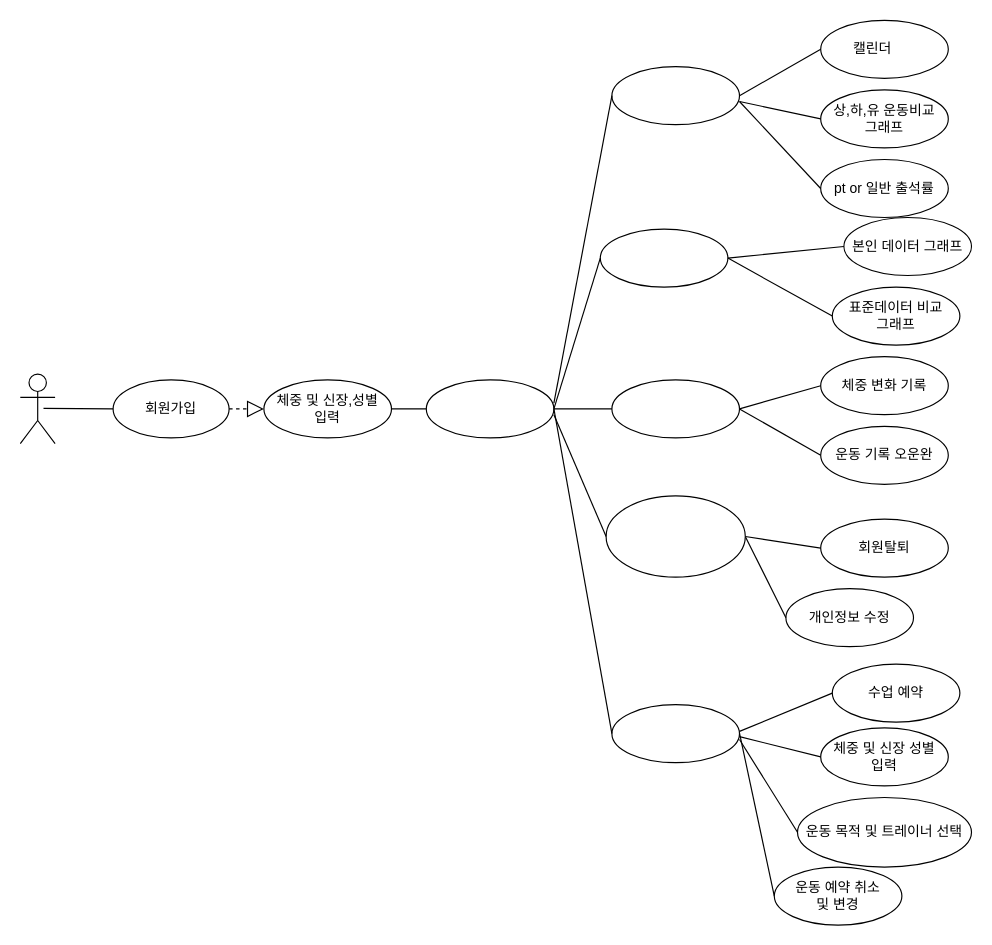
Some shapes in this 992 by 945 pixel diagram are drawn without their labels. Here are the shapes that lost their labels. From the top down, the centre of each, then its label:
the point at 675,95: 메인 비교 페이지
the point at 663,257: 표준 비교 페이지
the point at 37,408: 회원
the point at 489,408: 로그인
the point at 675,408: 입력 페이지
the point at 675,536: 개인 정보 페이지
the point at 675,733: 예약 or pt 페이지
